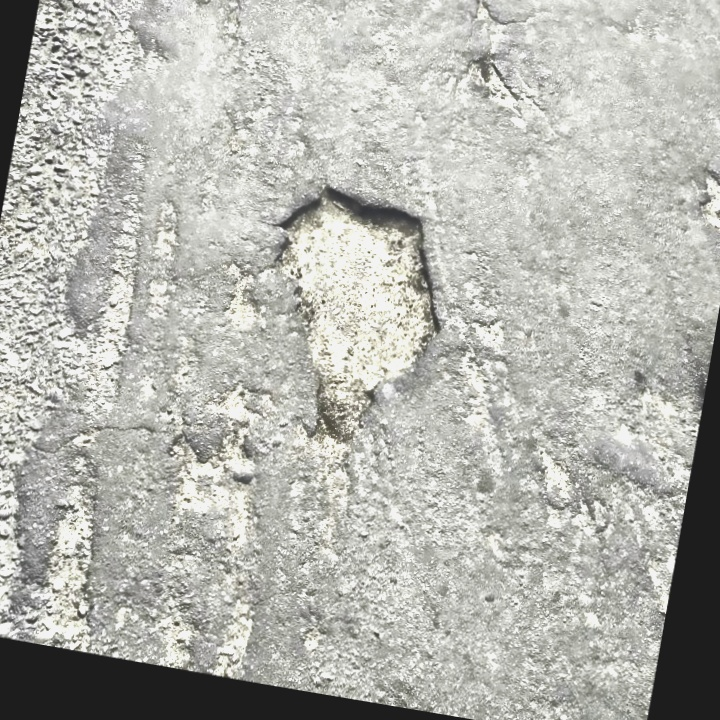pothole: (236, 172, 468, 452), (470, 54, 526, 111), (689, 167, 720, 239)
